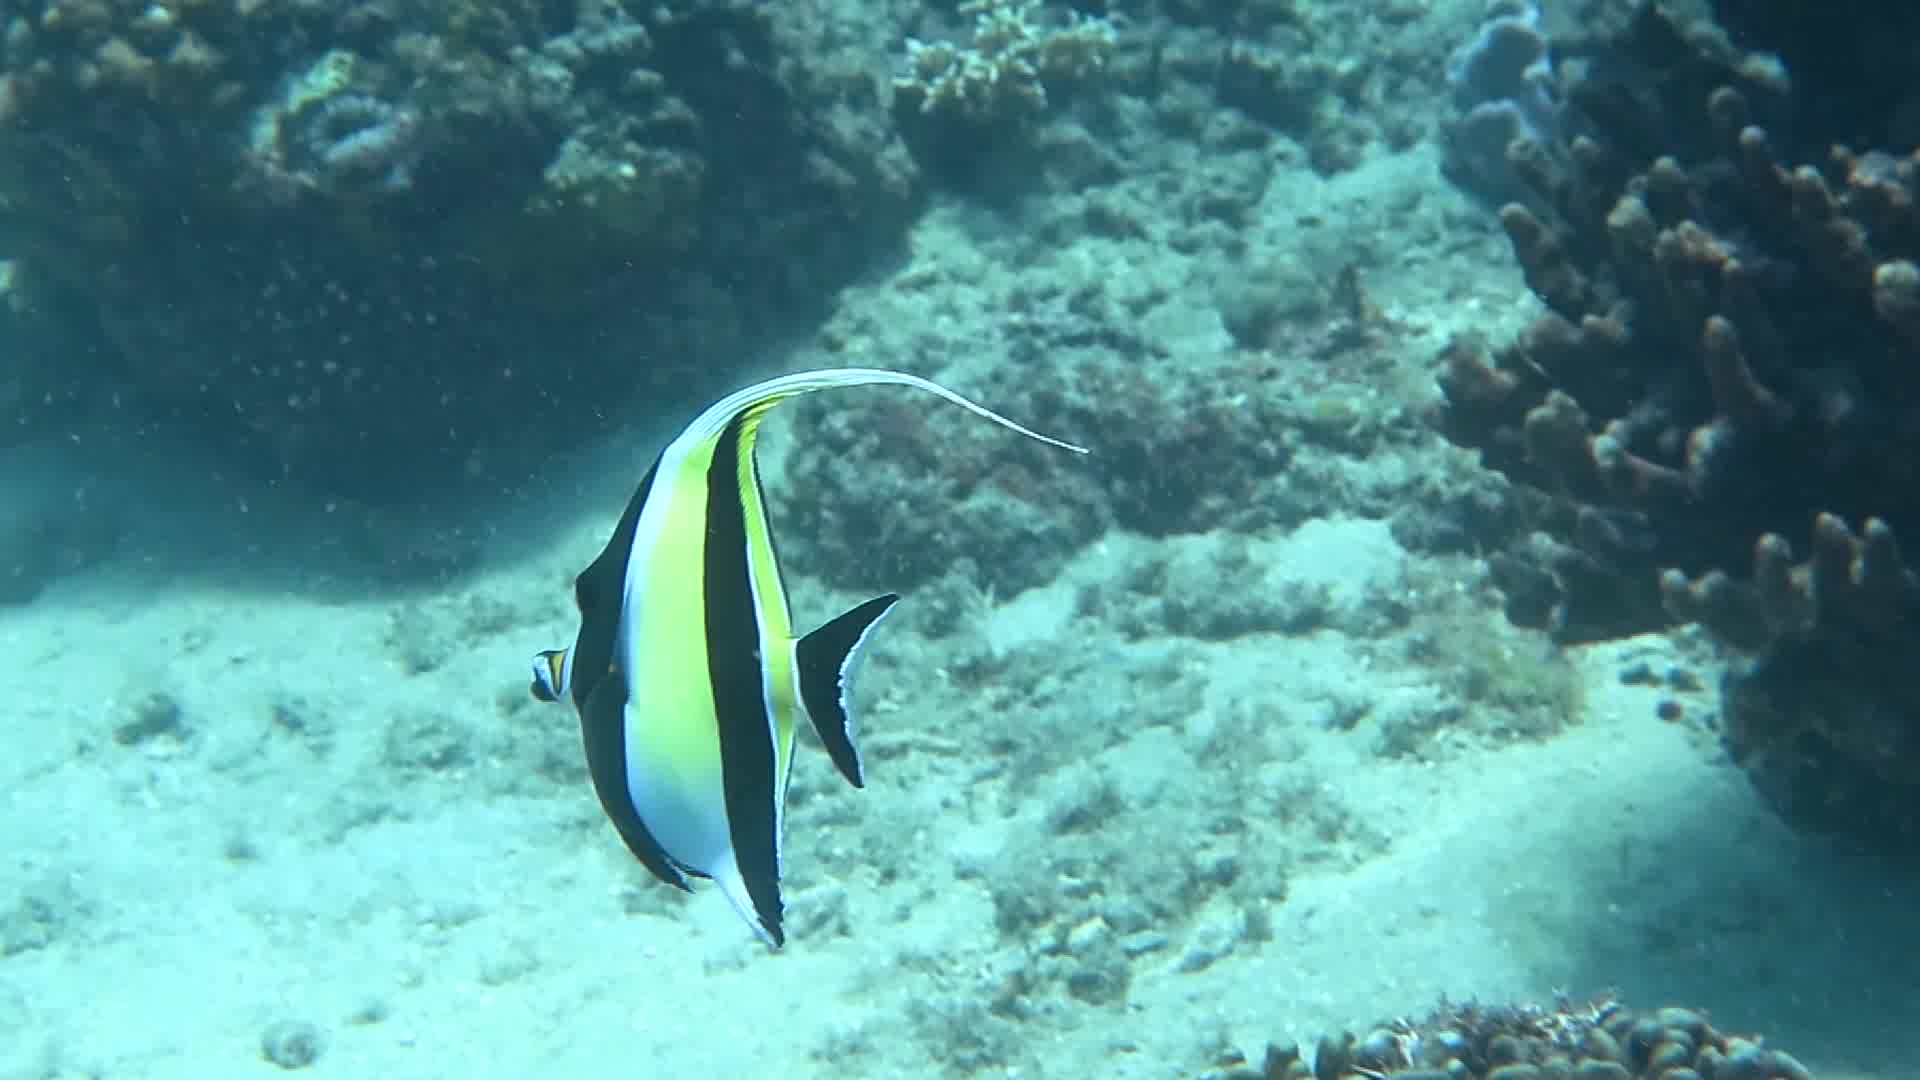Zanclus cornutus: (529, 367, 905, 947)
